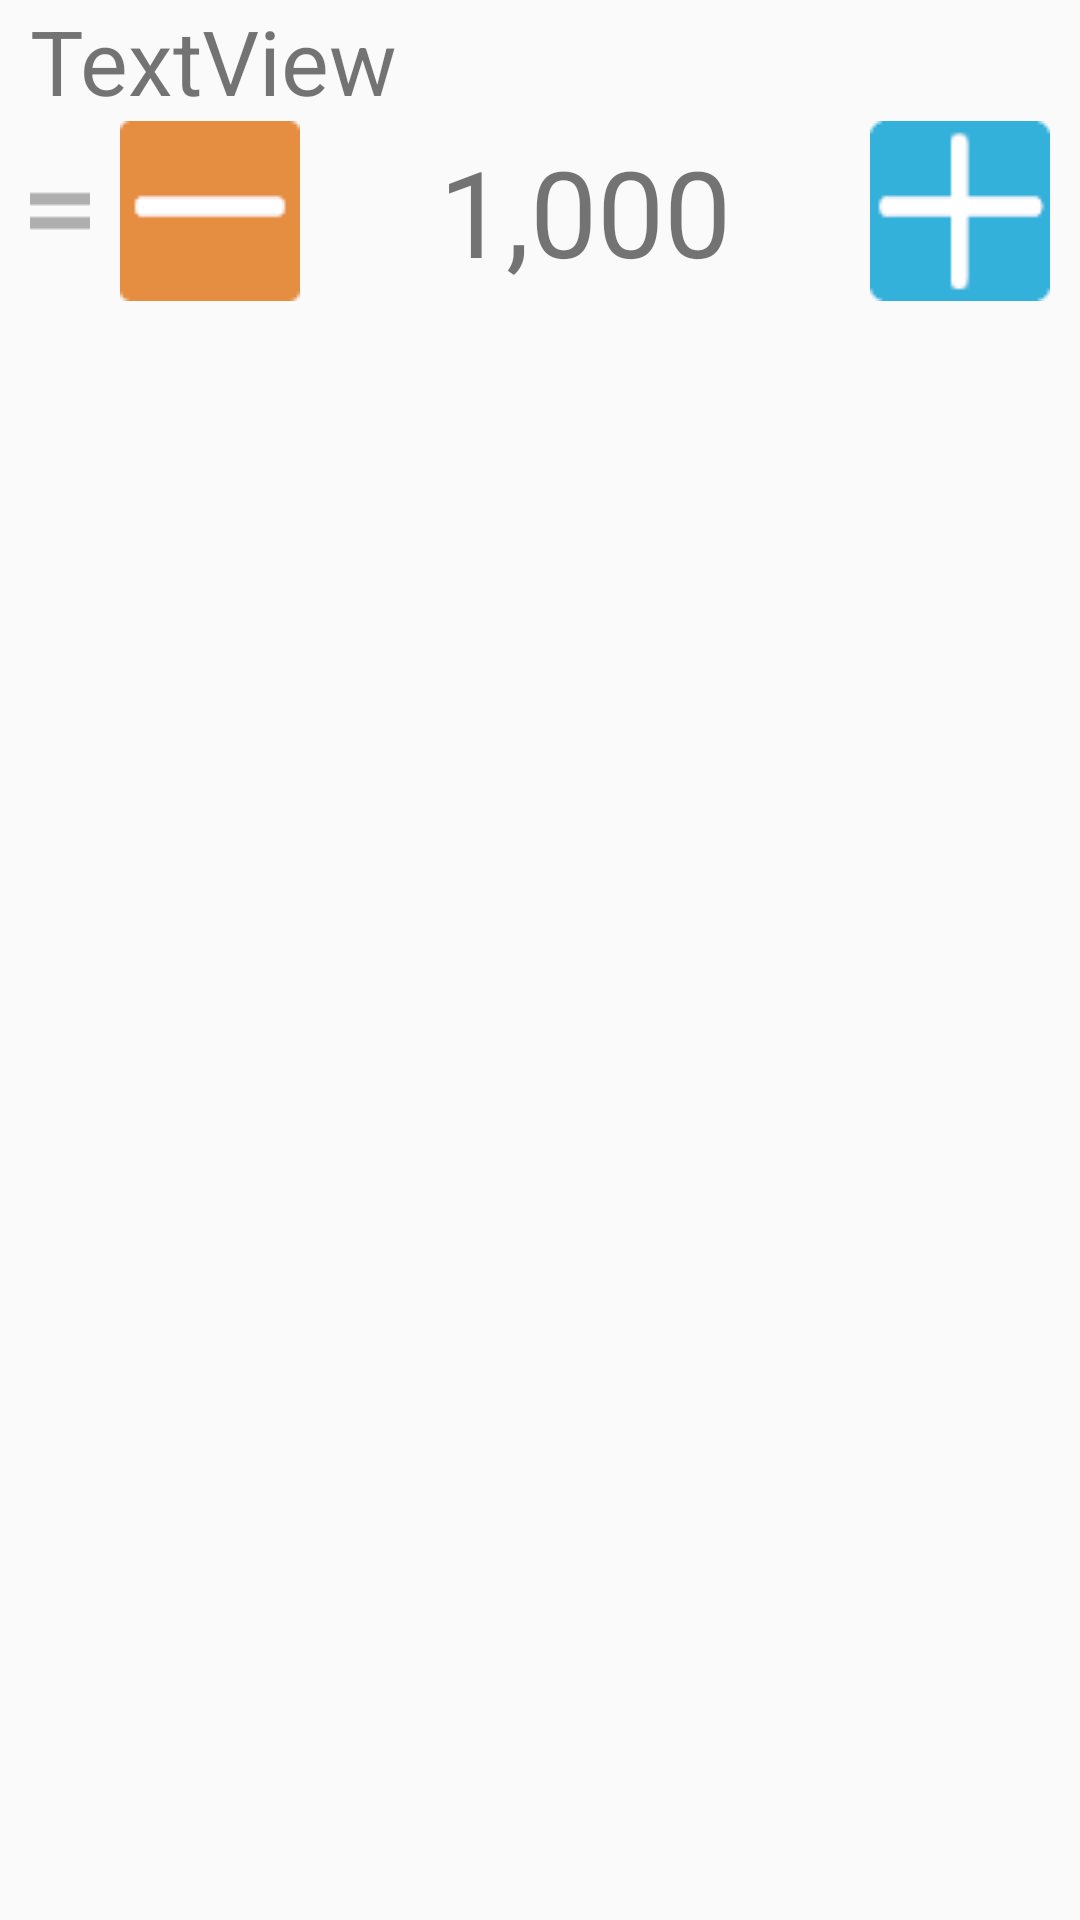

Where to tap for icons on this 1080x1920 app screen, as (x=x, y=y):
add: (x=960, y=211)
drag: (x=60, y=211)
muinus: (x=210, y=211)
